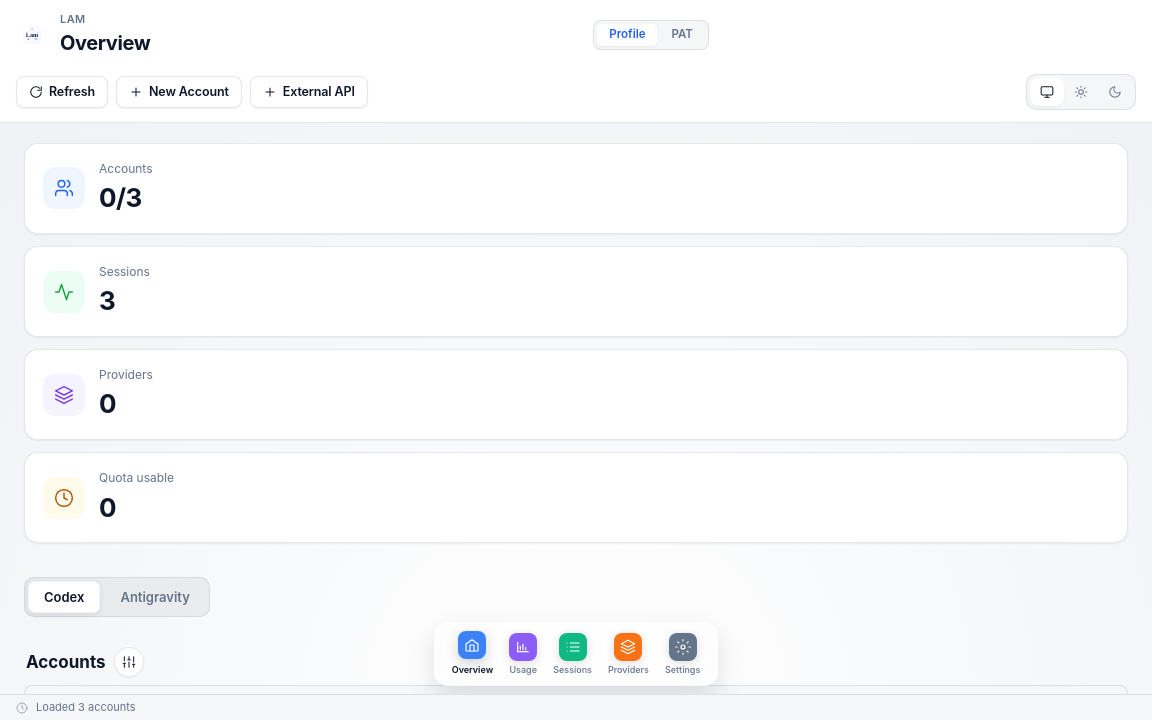
App handoff modal › opens the complete External API account flow from Providers
Click the button "Providers": {"x": 628, "y": 654} [603,629,654,679]
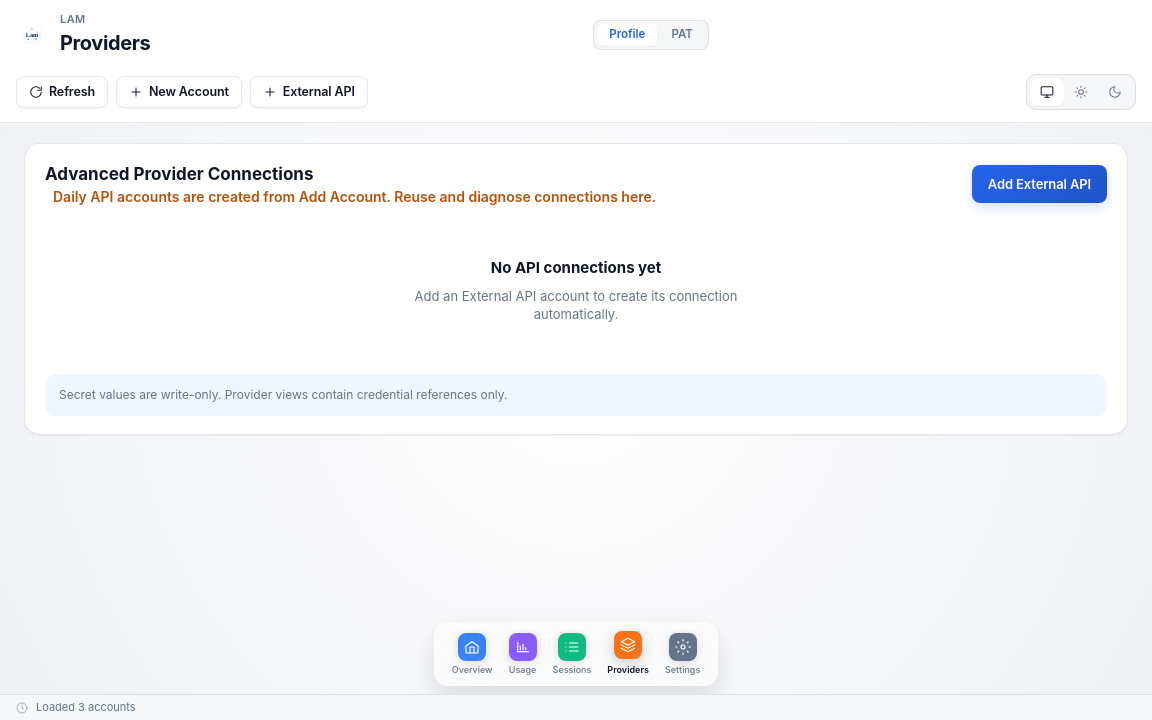
Click the button "Add External API": {"x": 1039, "y": 184} [972,165,1107,203]
(page scrolled)
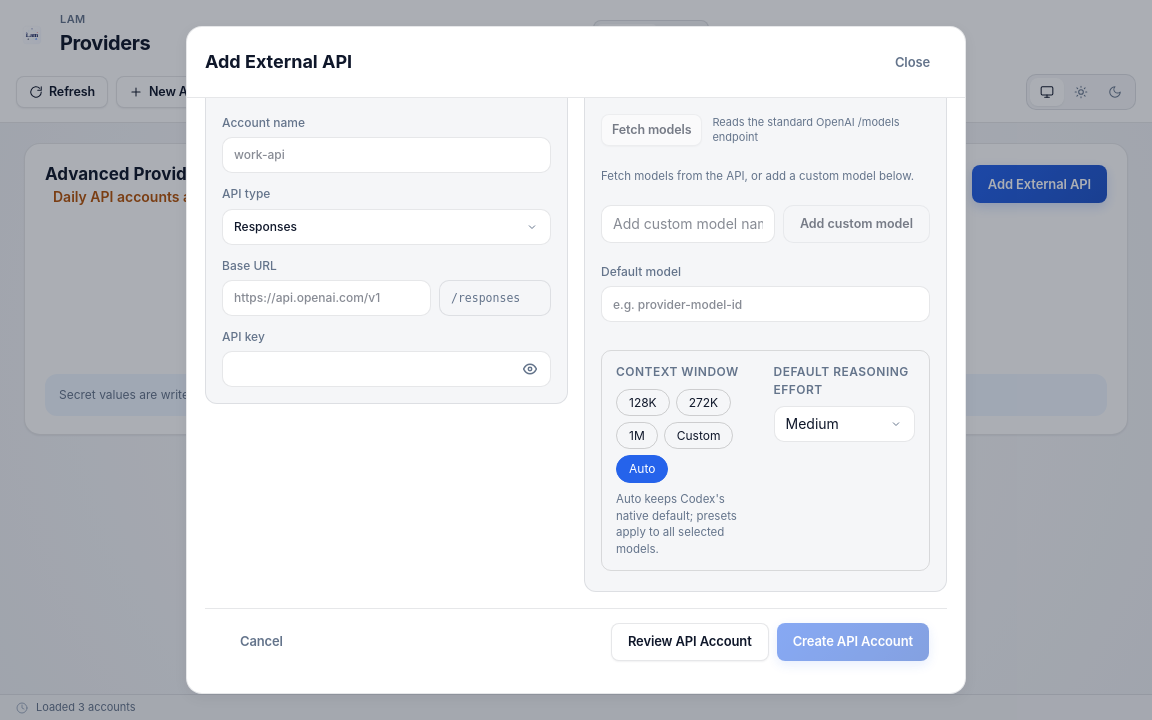
Expected: the heading "Add External API" is shown, [205,49,352,75]
Expected: the button "Review API Account" is shown, [611,622,769,660]
